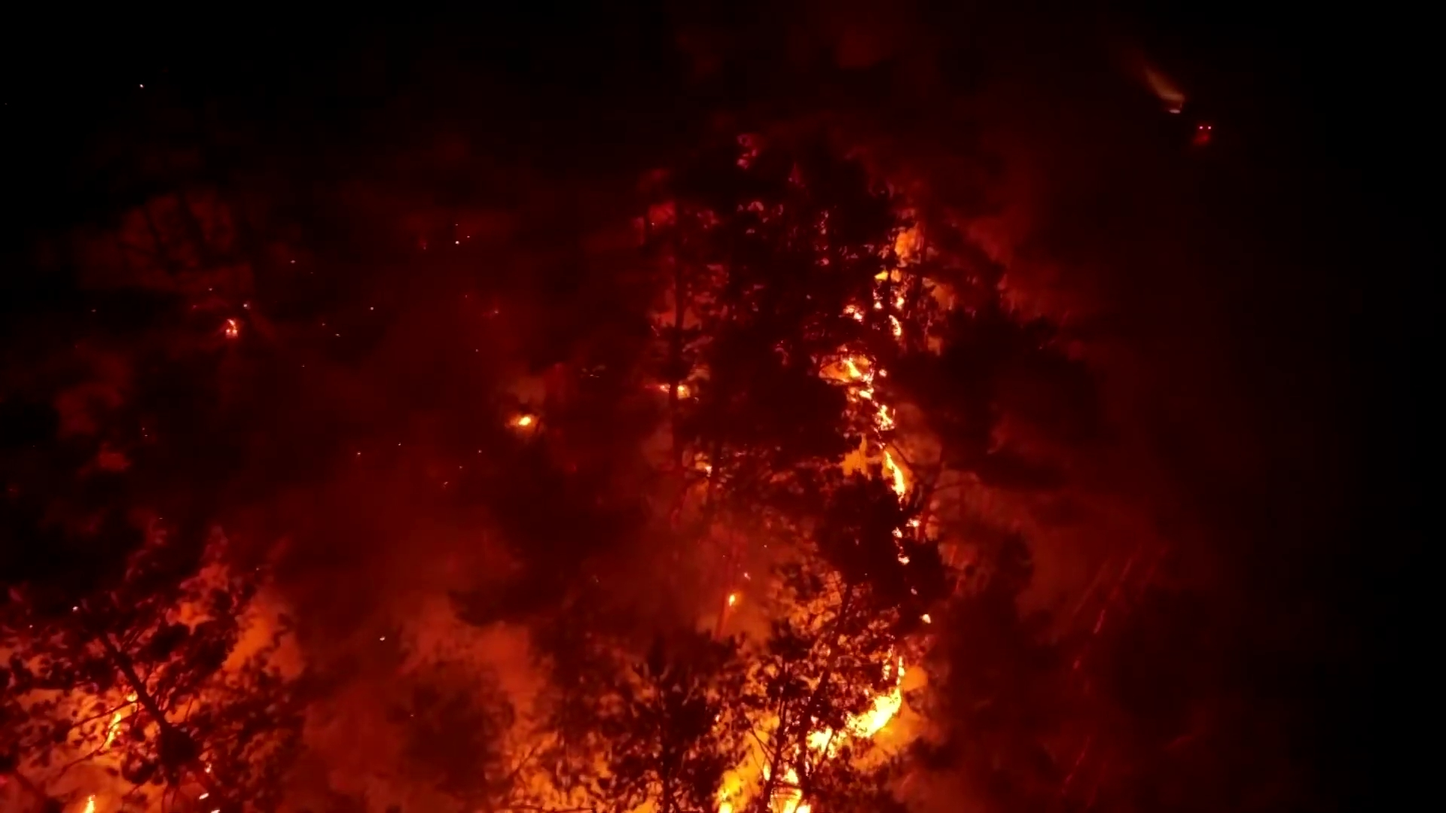forest_fire: (823, 355, 908, 504), (807, 656, 906, 757), (100, 693, 138, 753), (844, 285, 892, 322), (771, 768, 811, 812), (715, 778, 742, 812), (61, 793, 109, 812), (719, 590, 740, 623), (888, 312, 903, 338), (511, 414, 537, 428), (875, 270, 898, 283)
